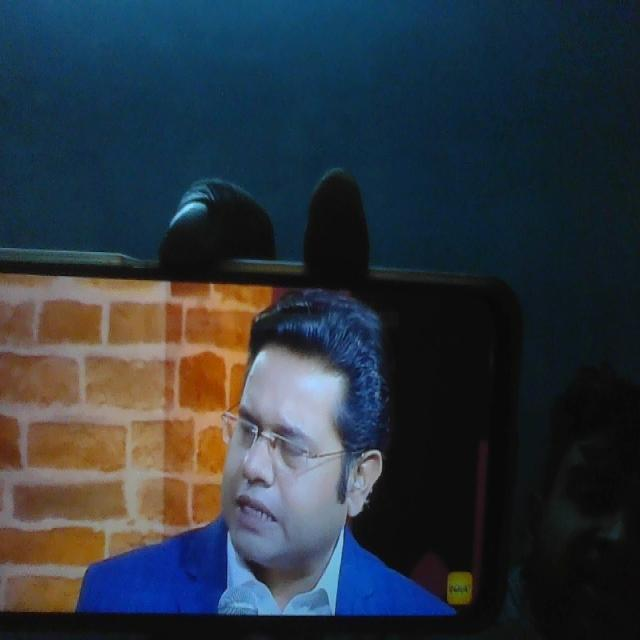fake: (224, 311, 360, 568)
